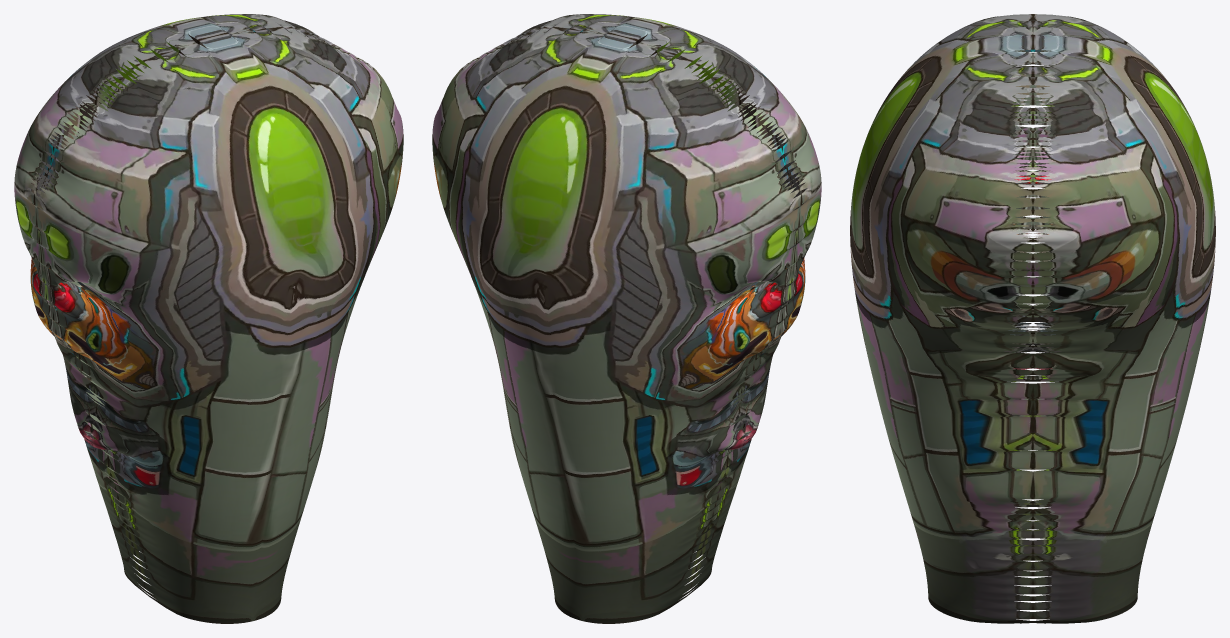
Rendered from reactor_tower.glb.
3 renders of one model, left to right at view 1: azimuth 30°, elevation 25°; view 2: azimuth 150°, elevation 25°; view 3: azimuth 270°, elevation 25°, orthographic. The views are drawn at different scales.
Visible parts, largest first — view 1: reactor_tower; view 2: reactor_tower; view 3: reactor_tower.
Part boxes in pixels (bbox=[...]): reactor_tower: bbox=[14, 14, 403, 623]; reactor_tower: bbox=[432, 14, 821, 623]; reactor_tower: bbox=[850, 14, 1215, 623].
Size of the model in its own units: 0.9836 by 1.45 by 0.8582.
1 material, 1 textured.
